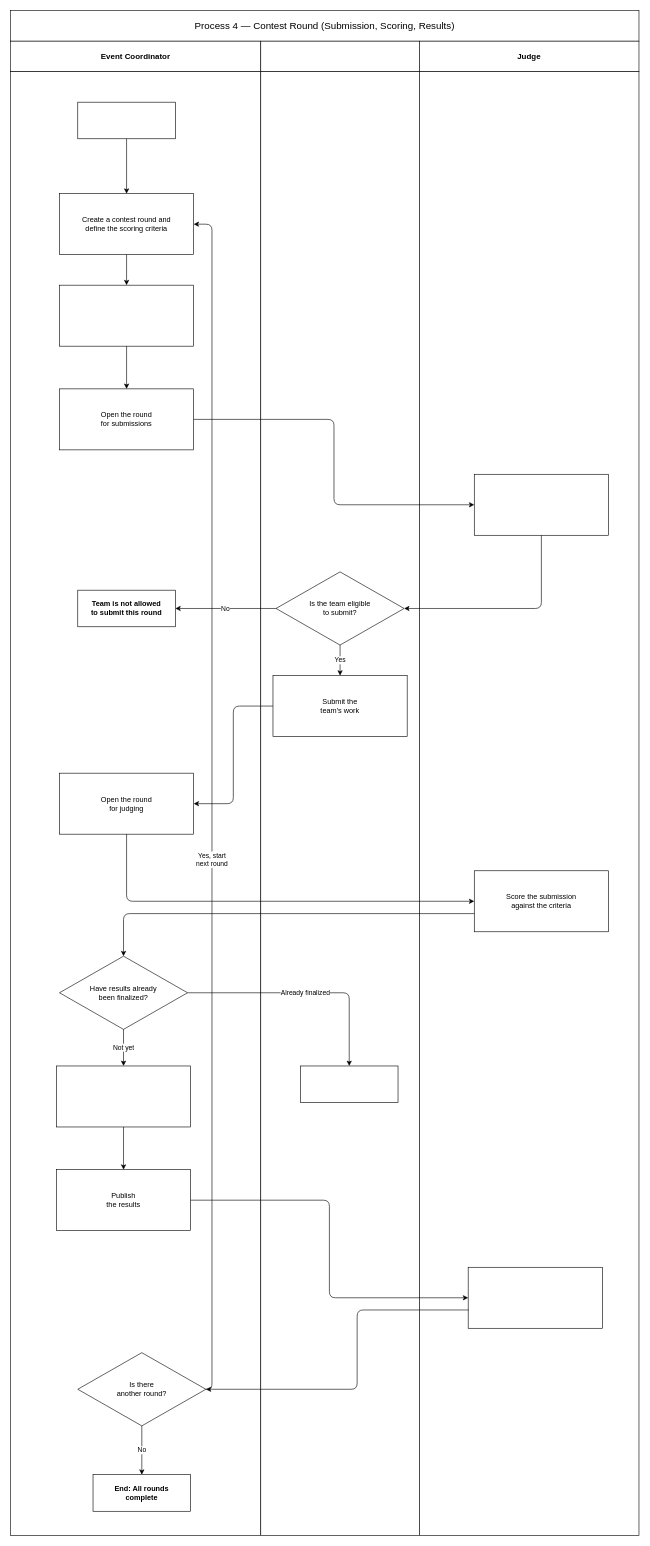
Some shapes in this 650 by 1546 pixel diagram are drawn without their labels. The shapes that lost their labels are listed below. From the top down, each one's centre as x and y in pixels, then its label:
At [339,56]: "Team Leader".
At [126,120]: "Start (new round)".
At [126,315]: "Assign judges to the round".
At [541,504]: "Send deadline reminders".
At [123,1096]: "Finalize the round and rank the teams".
At [349,1084]: "Round is already finalized, no action".
At [535,1297]: "Notify each team of its result".
